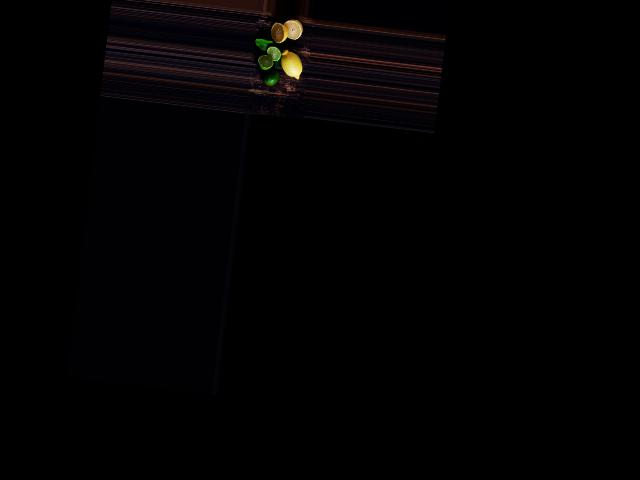lemon: (276, 47, 305, 81)
